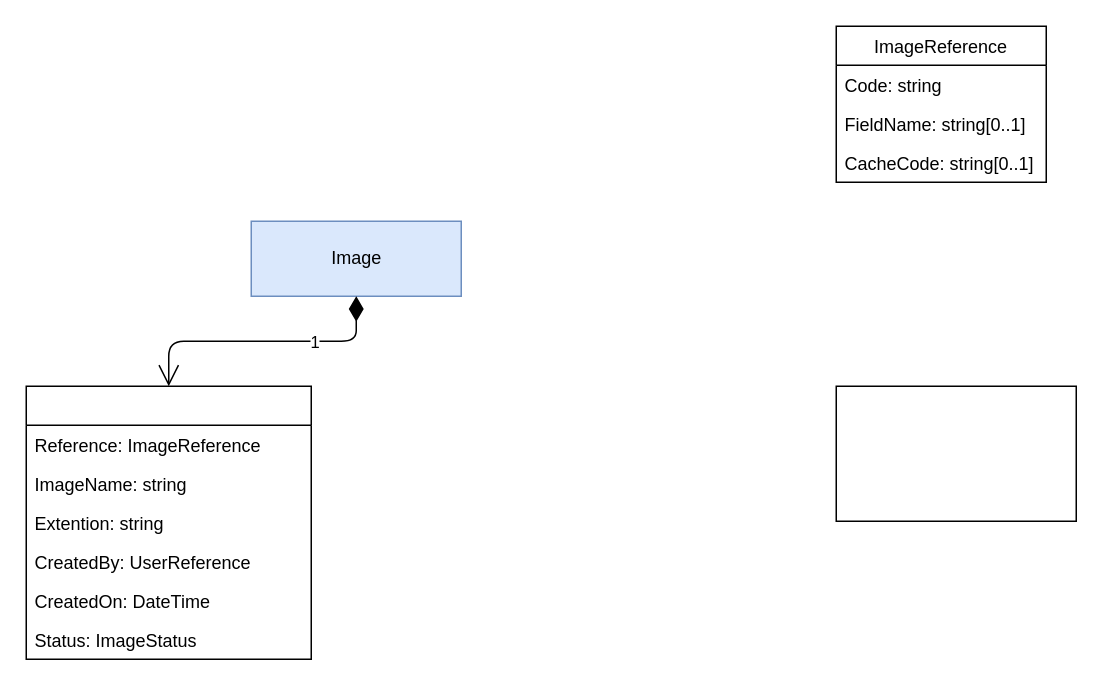
This 1103x690 diagram has some shape labels left out. The shapes that lost their labels are listed below. From the top down, each one's box as (x1, y1, x2, y2) in pixels, then its label:
(835, 385, 1076, 521): ImageSatus Active = 0 Inactive= 1 NewCreated = 2
(25, 385, 311, 659): ImageAspect
